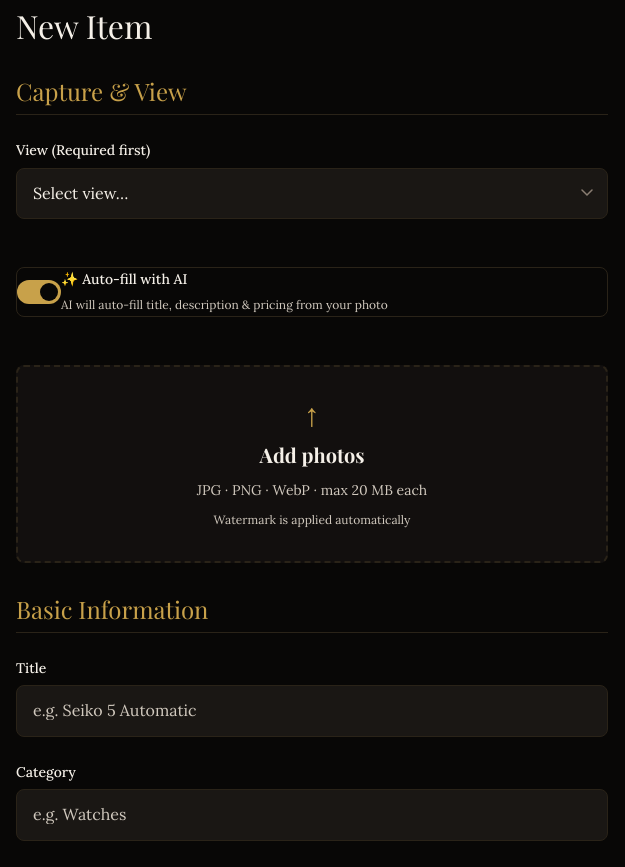
it: IntakeForm › clicking the AI toggle flips the state and persists to sessionStorage
This screenshot has width=625, height=867.
# Click to disable
Click the switch named "use ai to auto-fill form fields and pricing from photo".
click(39, 292)  # box [17, 280, 61, 304]
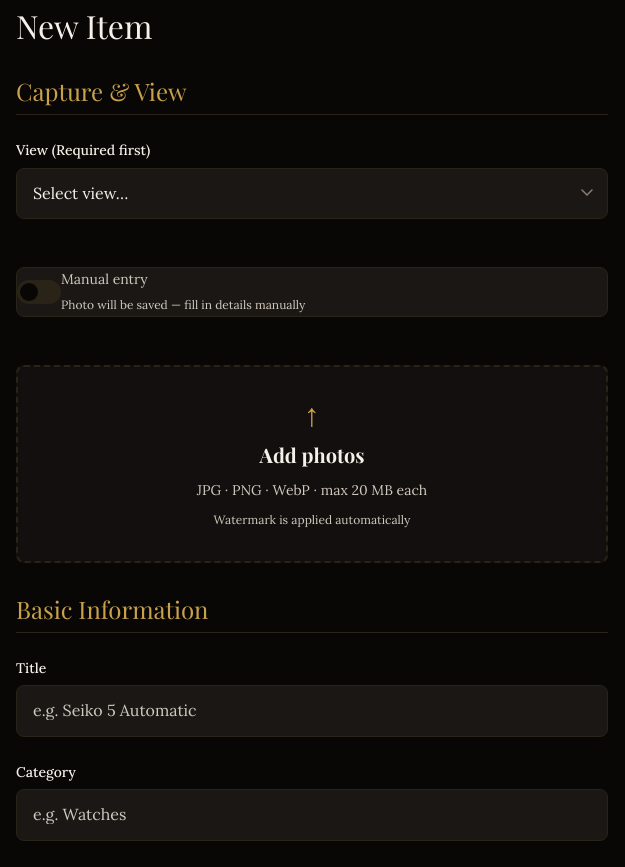
Check: the text "Manual entry" is shown, box [61, 270, 148, 288]
# Click to re-enable
Click the switch named "use ai to auto-fill form fields and pricing from photo".
click(39, 292)  # box [17, 280, 61, 304]
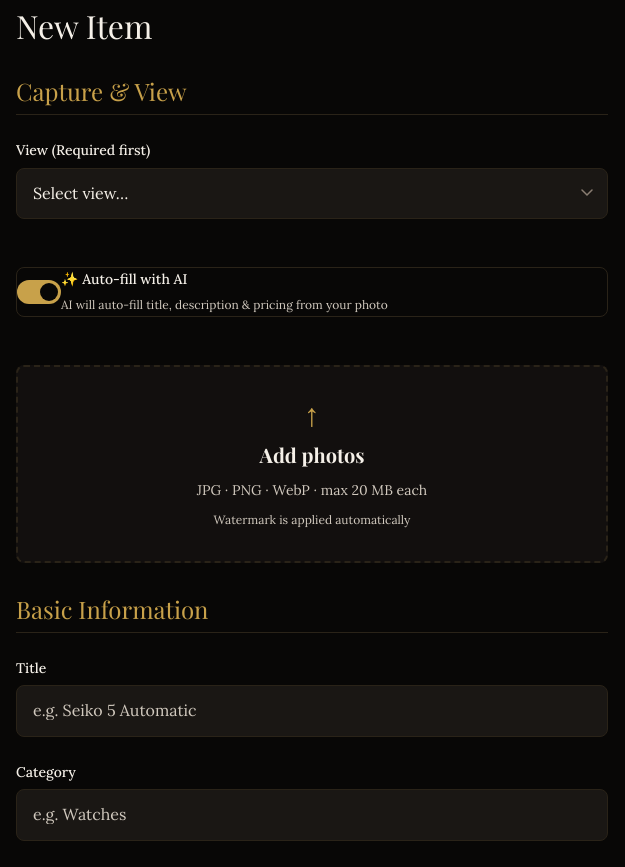
Check: the text "✨ Auto-fill with AI" is shown, box [61, 270, 188, 288]
